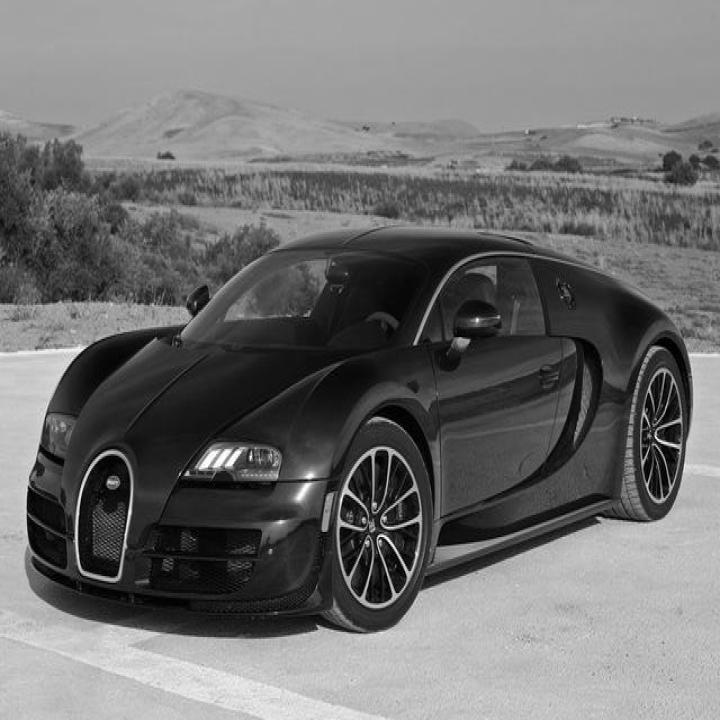car: (26, 224, 693, 634)
